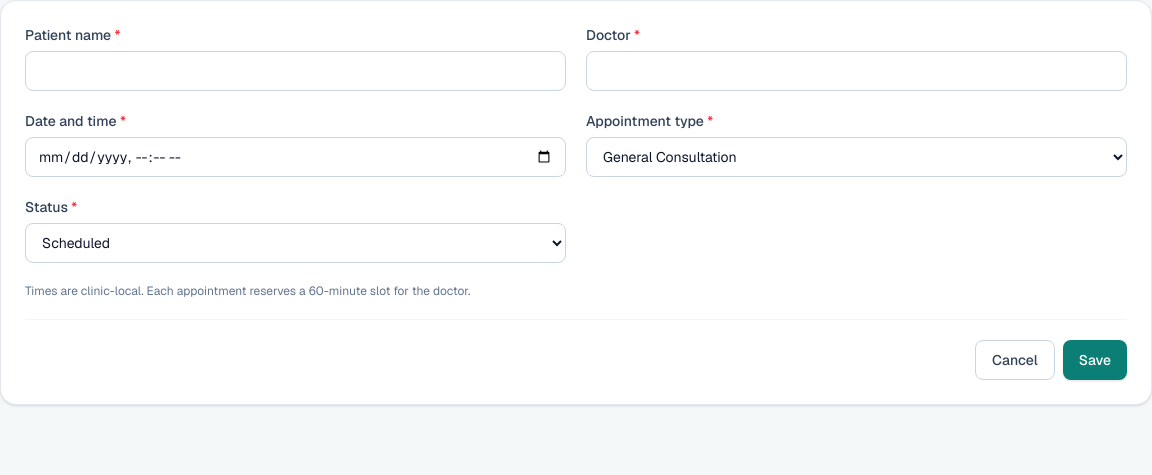
Scenario: AppointmentForm › shows required-field errors and does not submit empty data
Click the button "Save". click: (1095,360)
box: [1063,340,1127,380]
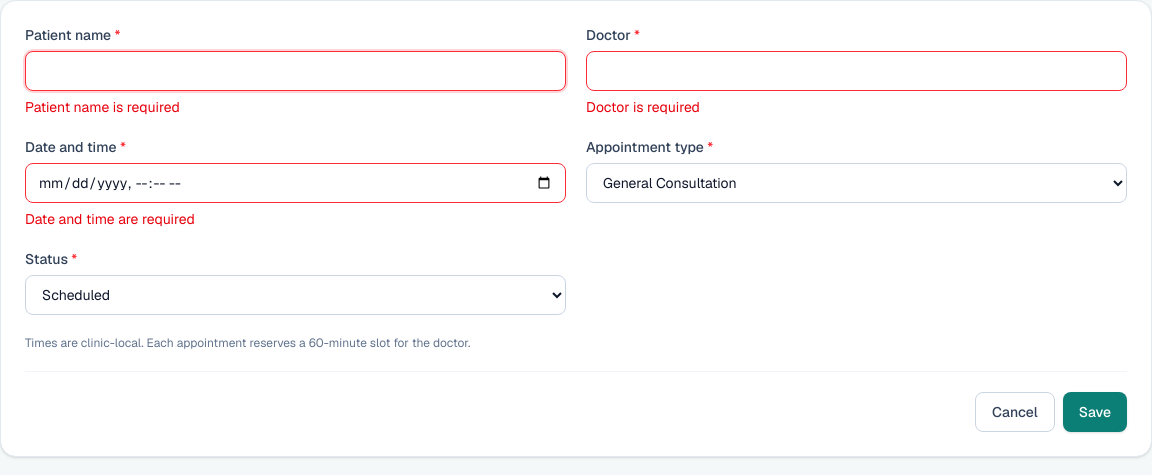
Check: the text "Patient name is required" is shown, box [25,98,180,116]
Check: the text "Doctor is required" is shown, box [586,98,700,116]
Check: the text "Date and time are required" is shown, box [25,210,195,228]
